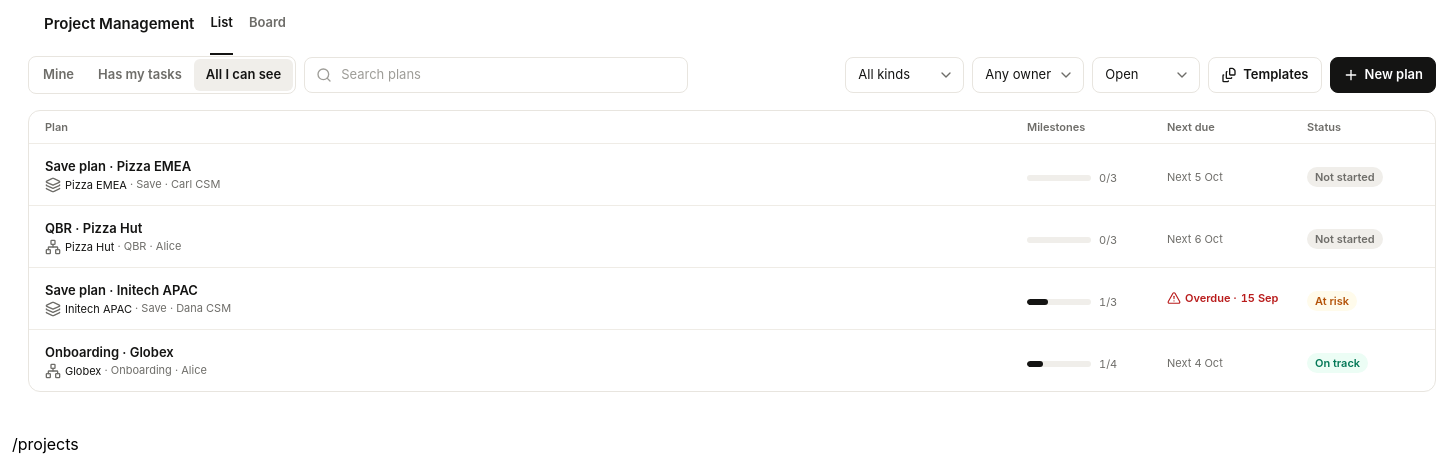
Test: /projects: the list (spec §2.1) › keeps every filter in the URL, the search after a pause
Click the button "Has my tasks".
click(140, 75)  # box [86,59,194,91]
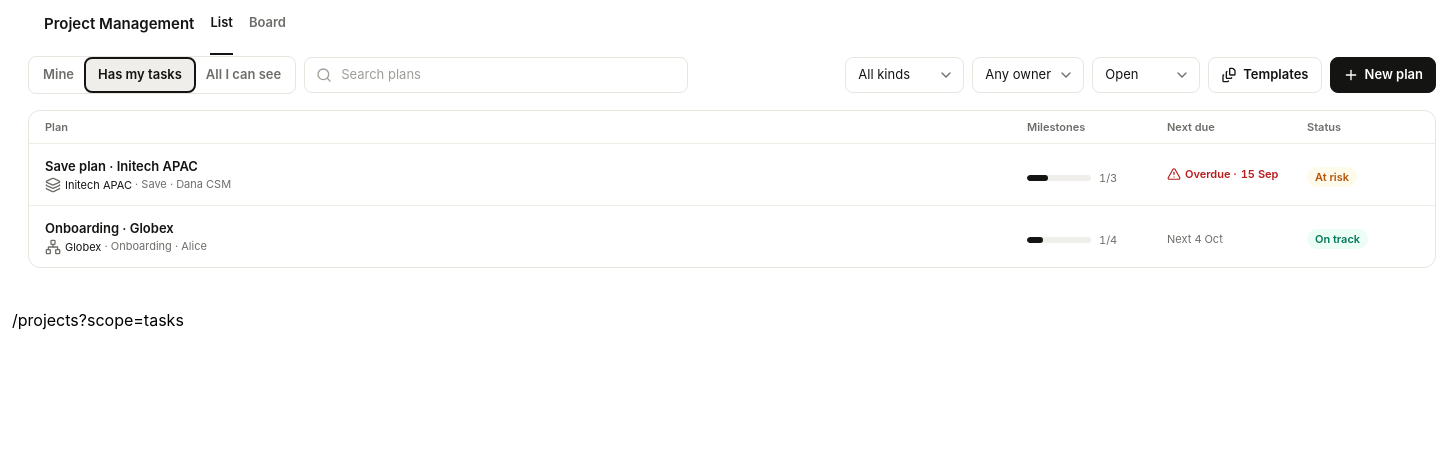
Now the text with test id "where" reads "/projects?scope=tasks", box [12,310,184,330]
Select "Save" in the 1st dropdown named "Kind" at x=905, y=75, box [845,57,964,93]
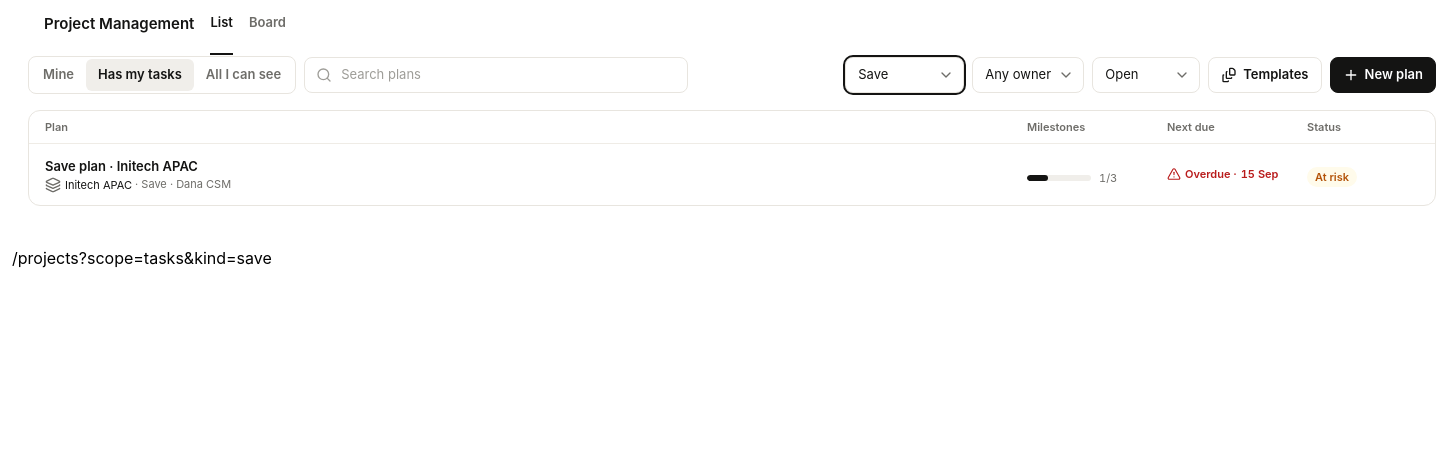
Now the text with test id "where" reads "/projects?scope=tasks&kind=save", box [12,248,272,268]
Select "All" in the 3rd dropdown named "Status" at x=1146, y=75, box [1092,57,1200,93]
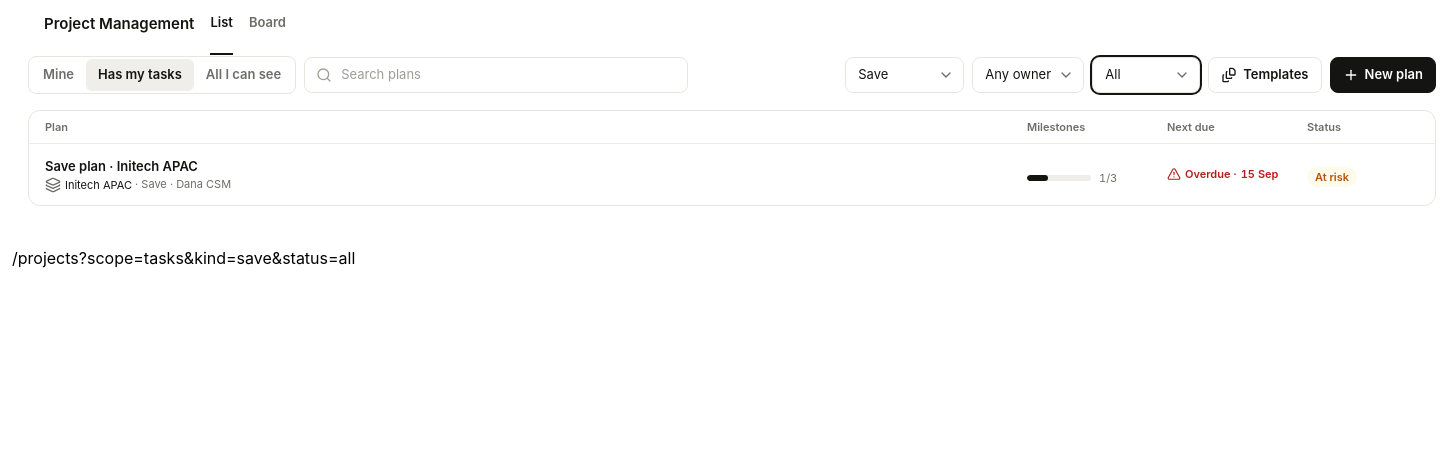
Type "initech" into the search field named "Search plans by plan or record name".
click(496, 75); type("initech")  # box [304,57,688,93]
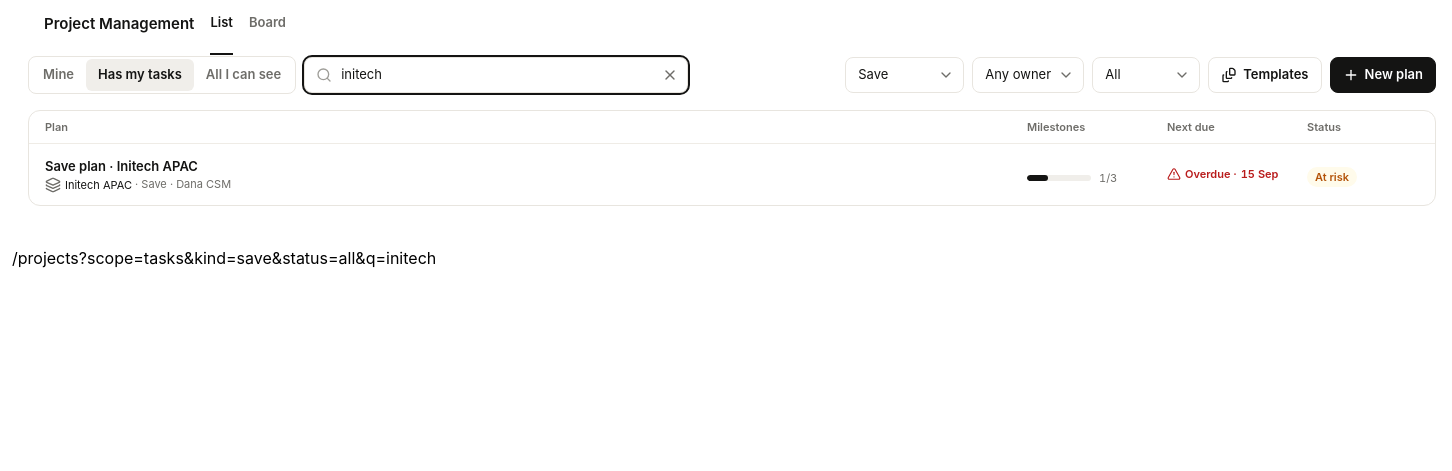
Now the text with test id "where" reads "/projects?scope=tasks&kind=save&status=all&q=initech", box [12,248,436,268]
